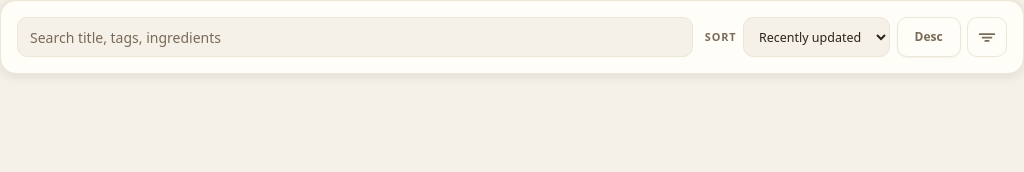
Test: RecipeSearchFilterCard › starts collapsed and exposes an accessible advanced disclosure
The image size is (1024, 172).
Click the button named "Show advanced recipe filters": [987, 37] box [967,17,1007,57]
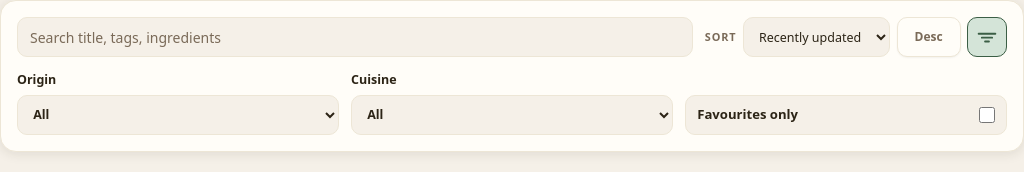
Expected: the button named "Hide advanced recipe filters" is expanded, [967,17,1007,57]
Expected: the dropdown named "Recipe origin" is enabled, [17,95,339,135]
